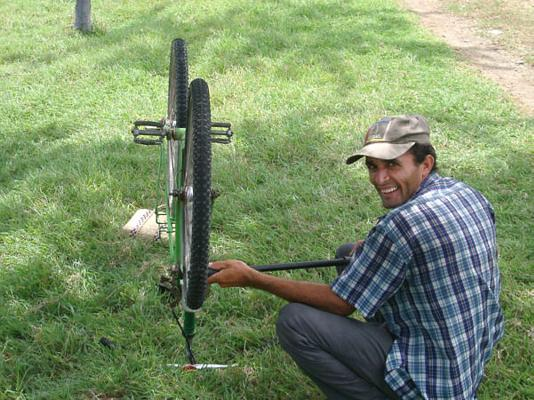person: (202, 115, 502, 400)
